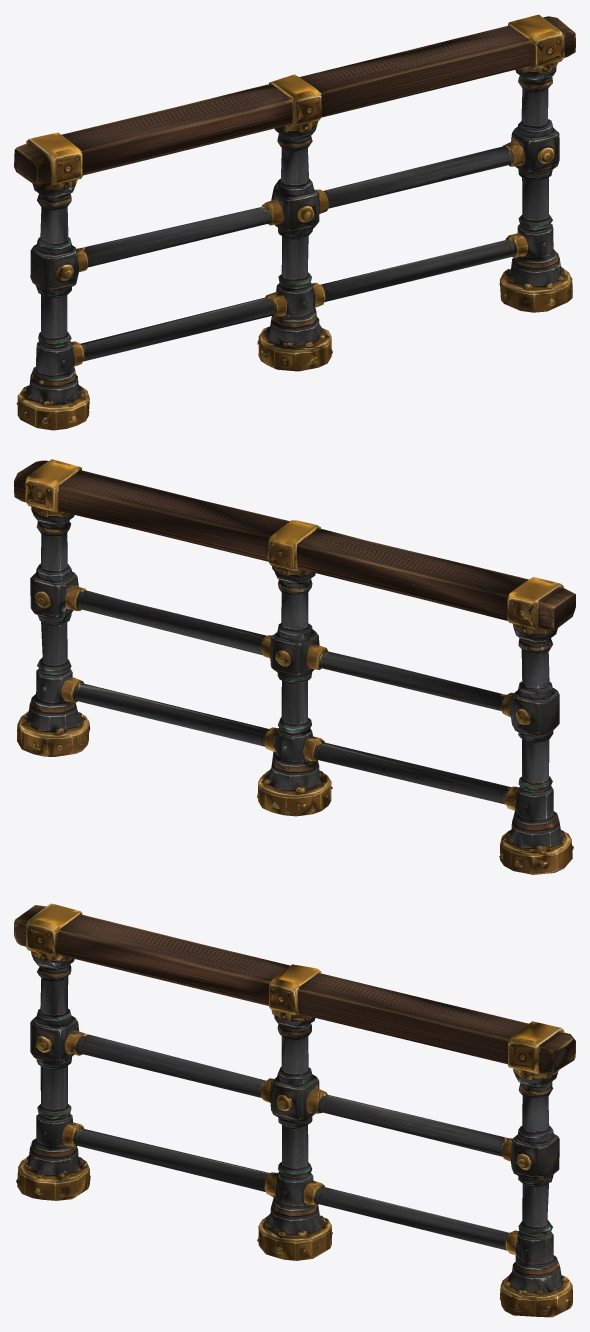
The model's file is rail_stanchion.glb.
The picture shows the model from 3 angles, top to bottom: view 1: azimuth 30°, elevation 25°; view 2: azimuth 150°, elevation 25°; view 3: azimuth 330°, elevation 25°; orthographic projection.
Parts seen in each view (by area): view 1: mesh_node; view 2: mesh_node; view 3: mesh_node.
Boxes of the visible parts, x1=… form: mesh_node: x1=14, y1=14, x2=575, y2=430; mesh_node: x1=14, y1=459, x2=575, y2=874; mesh_node: x1=14, y1=903, x2=575, y2=1317.
Bounding box in the file's own units: 1.9 × 0.9017 × 0.2244.
1 material, 1 textured.
